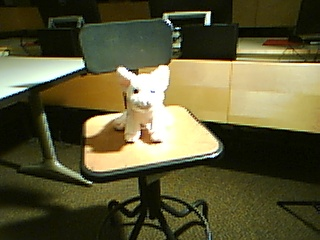piggy: (111, 63, 174, 144)
